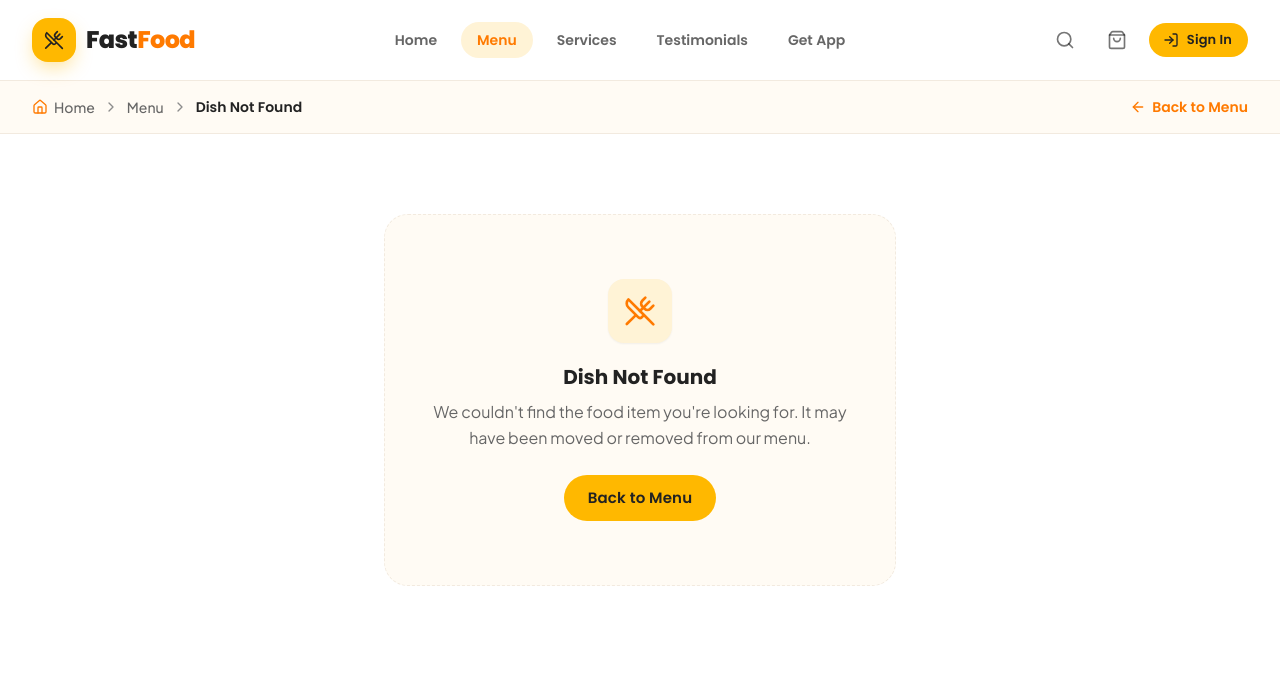
Test: Integration: Food Details Navigation, Cart Operations & Persistence › handles invalid product URL gracefully with Dish Not Found EmptyState and Back to Menu navigation
The image size is (1280, 697).
Expected: the heading "Dish Not Found" is shown, 563,363 -> 717,391
Click the button "Back to Menu" at coordinates (640, 498), box 564,475 -> 716,521
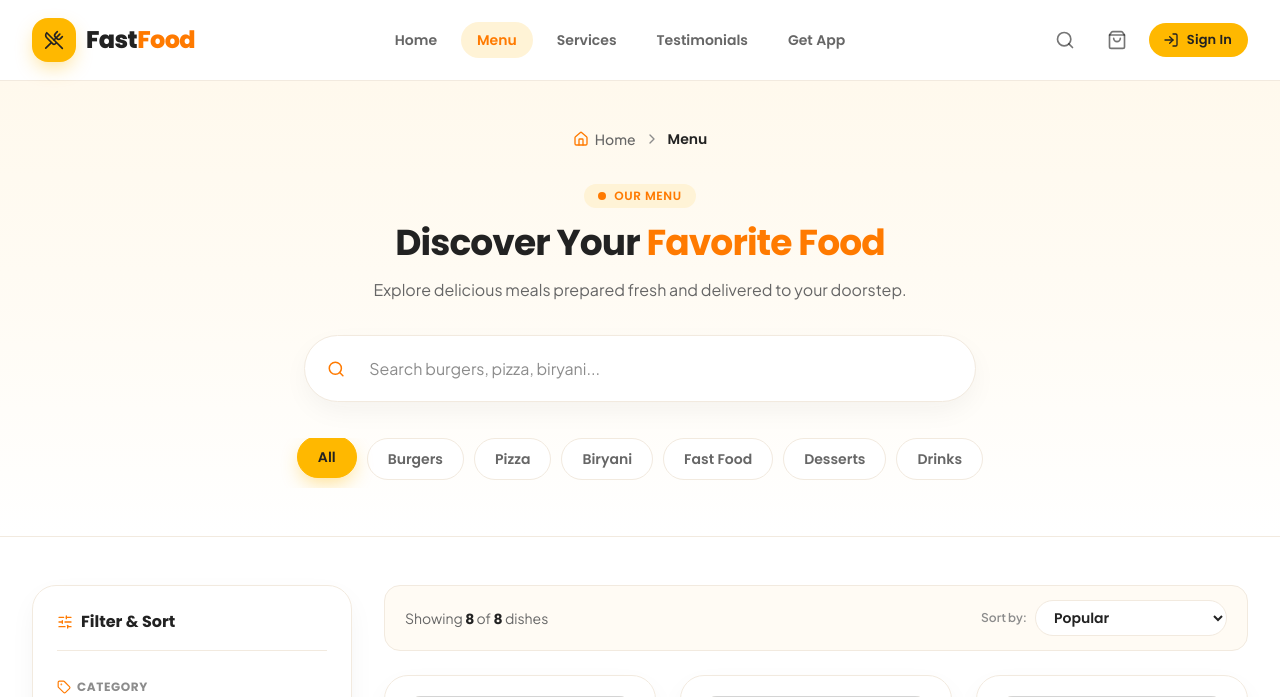
Expected: the heading "Discover Your Favorite Food" is shown, 373,220 -> 907,265
